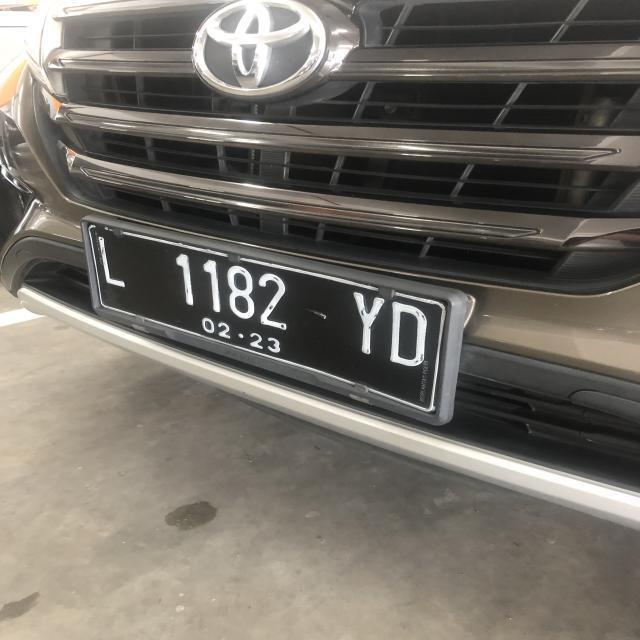1: (172, 252, 200, 306), (200, 257, 225, 311)
2: (258, 270, 290, 330)
8: (226, 264, 262, 320)
D: (386, 300, 429, 372)
L: (97, 235, 128, 291)
Y: (344, 290, 384, 358)
